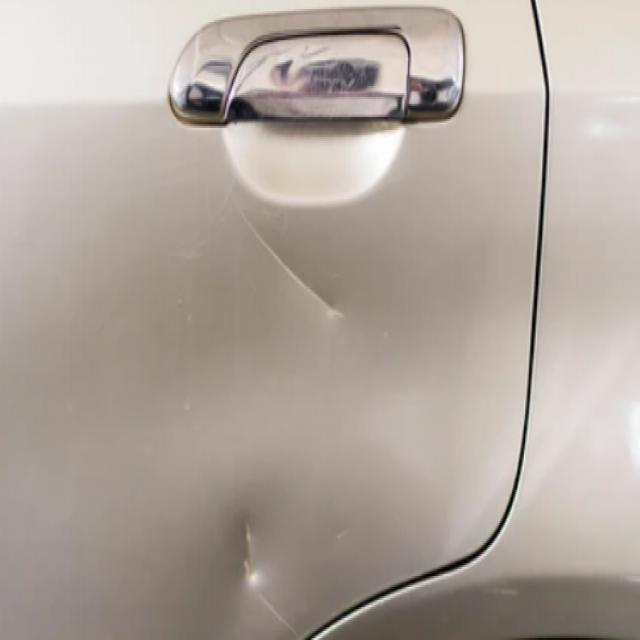dents: (222, 188, 378, 332), (222, 488, 308, 636)
